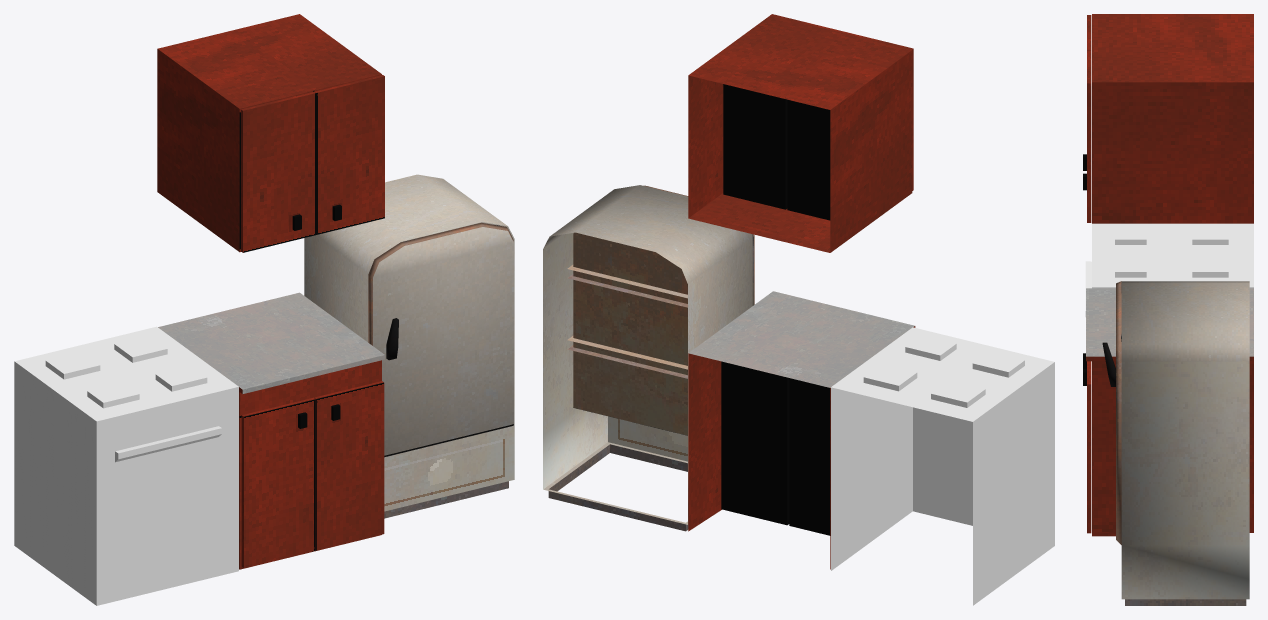
Rendered from cooker.glb.
The picture shows the model from 3 angles, left to right: view 1: azimuth 30°, elevation 25°; view 2: azimuth 150°, elevation 25°; view 3: azimuth 270°, elevation 25°; orthographic projection.
Parts seen in each view (by area): view 1: Cube, fridge-door, box-up, fridge, box-down, box-down-door2, box-up-door1, box-down-door1, box-up-door2; view 2: fridge, Cube, box-up, box-down; view 3: fridge, box-up, Cube, box-down, fridge-door, box-up-door2, box-down-door1, box-up-door1.
Part boxes in pixels (box(x1,y1,x2,y2)): Cube: box(14, 326, 238, 605); fridge-door: box(368, 222, 513, 457); box-up: box(157, 14, 381, 252); fridge: box(304, 174, 514, 518); box-down: box(158, 292, 384, 569); box-down-door2: box(241, 397, 315, 567); box-up-door1: box(241, 91, 316, 252); box-down-door1: box(314, 381, 384, 550); box-up-door2: box(314, 75, 384, 234); fridge: box(543, 185, 752, 531); Cube: box(831, 327, 1054, 605); box-up: box(688, 15, 912, 252); box-down: box(688, 291, 915, 569); fridge: box(1121, 281, 1249, 605); box-up: box(1092, 14, 1253, 223); Cube: box(1085, 223, 1253, 316); box-down: box(1086, 288, 1253, 536); fridge-door: box(1102, 281, 1121, 544); box-up-door2: box(1083, 50, 1091, 222); box-down-door1: box(1083, 361, 1091, 533); box-up-door1: box(1083, 15, 1091, 170).
Size of the model in its own units: 6.08 by 6.21 by 2.11.
3 materials, 2 textured.
